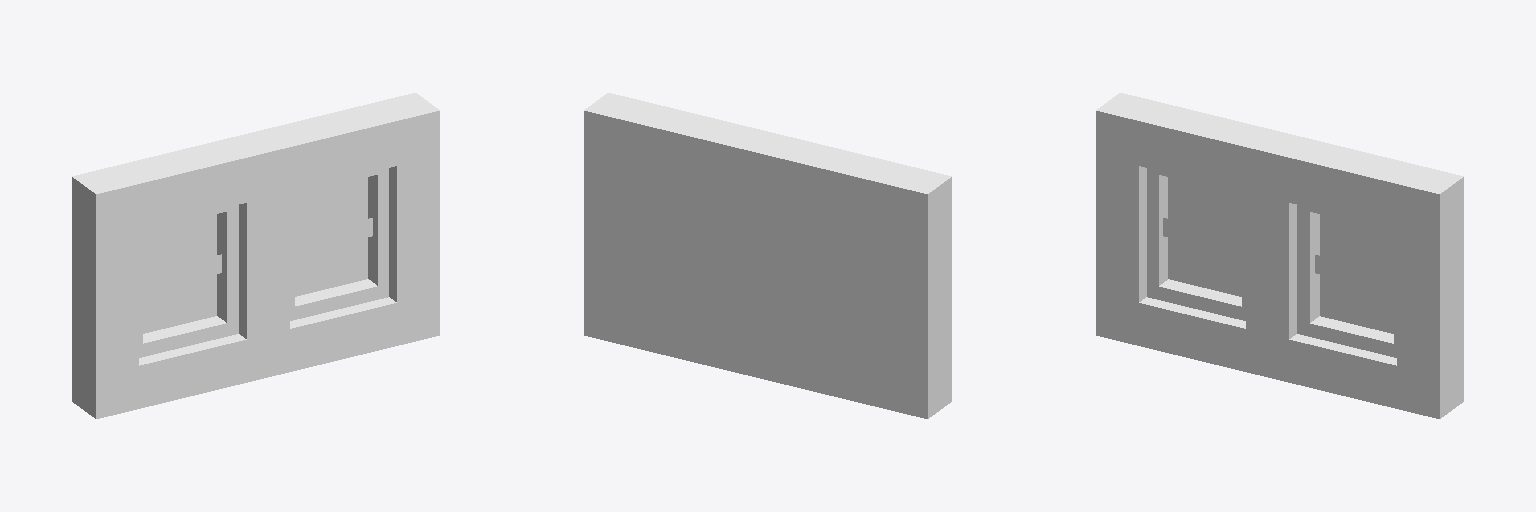
File: Windows_detailed.obj
3 views of the same model, side by side, from view 1: azimuth 30°, elevation 25°; view 2: azimuth 150°, elevation 25°; view 3: azimuth 330°, elevation 25° (orthographic).
Parts seen in each view (by area): view 1: building-windows; view 2: building-windows; view 3: building-windows.
Part boxes in pixels (x1,y1,x2,y2): building-windows: (72, 93, 439, 418); building-windows: (584, 93, 951, 418); building-windows: (1096, 93, 1463, 418).
Size of the model in its own units: 1 by 0.625 by 0.1236.